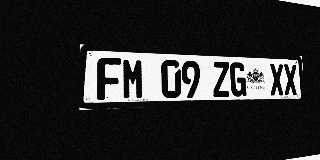0: (161, 60, 181, 99)
9: (181, 60, 201, 98)
F: (97, 57, 121, 100)
G: (230, 62, 246, 97)
M: (122, 58, 144, 100)
X: (269, 63, 284, 96), (283, 64, 298, 95)
Z: (212, 61, 230, 97)
